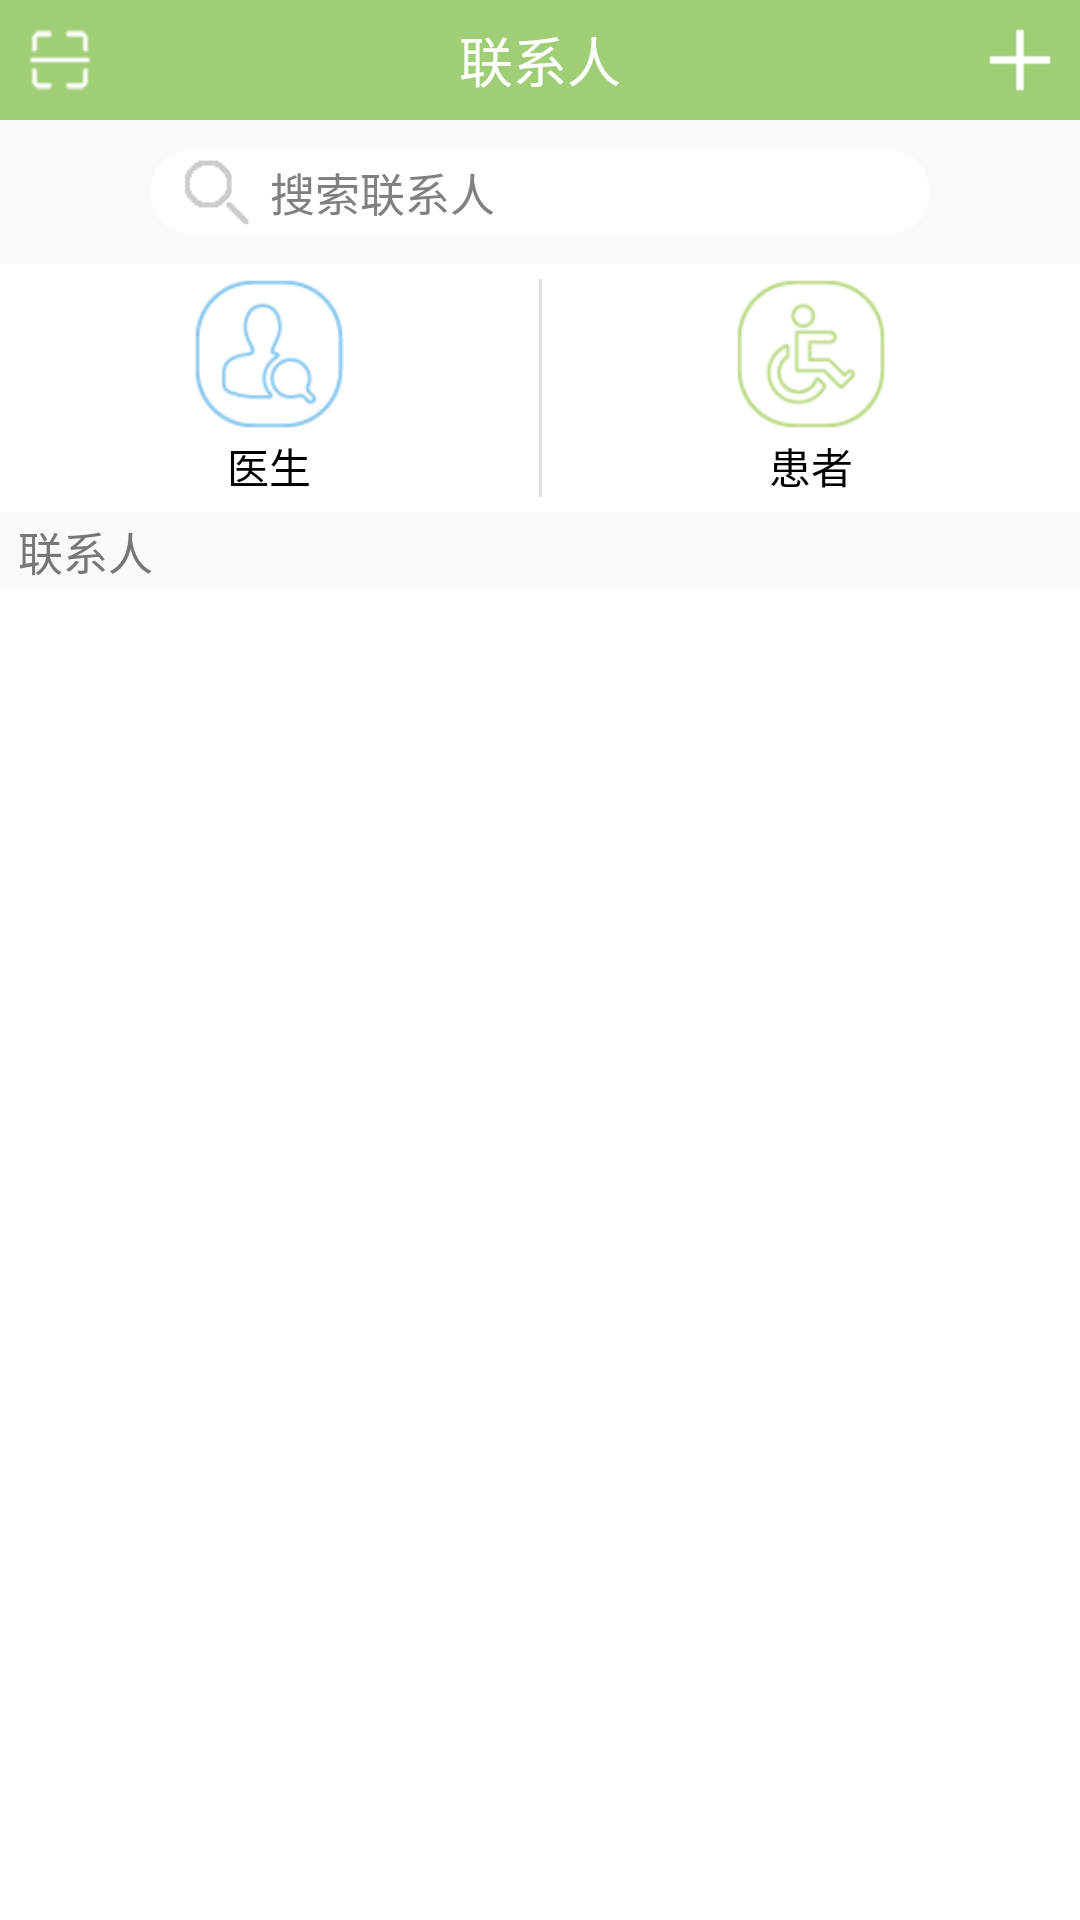

Icon bounding boxes for this 1080px×1920px phone screenshot, format [x1, y1, x2, y2]:
add: [989, 29, 1051, 91]
scan: [30, 30, 90, 90]
search: [185, 161, 248, 224]
